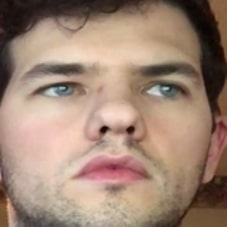drowsy: (20, 48, 210, 201)
